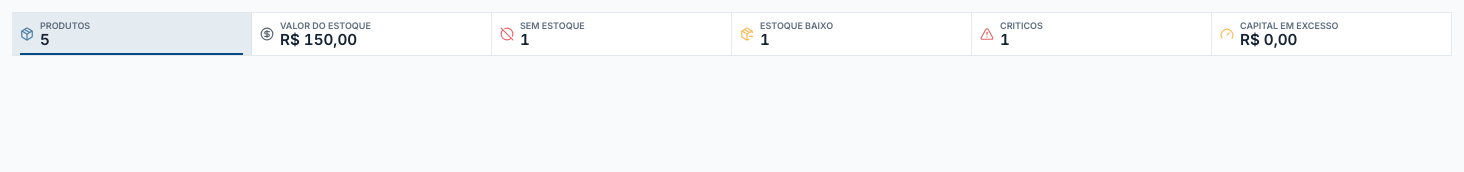
EstoqueSummaryCards › explica fonte, periodo e regra de Produtos em tooltip acessivel
This screenshot has width=1464, height=172.
Step 1. Focus the button "Produtos 5" → (132, 34), box top-left (12, 13), bottom-right (252, 55)
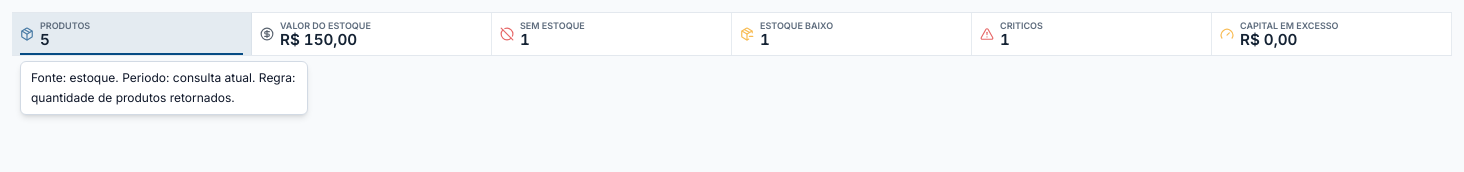
expect the tooltip shows "Fonte: estoque": met, box top-left (31, 70), bottom-right (296, 105)
expect the tooltip shows "Periodo: consulta atual": met, box top-left (31, 70), bottom-right (296, 105)
expect the tooltip shows "Regra: quantidade de produtos retornados": met, box top-left (31, 70), bottom-right (296, 105)
